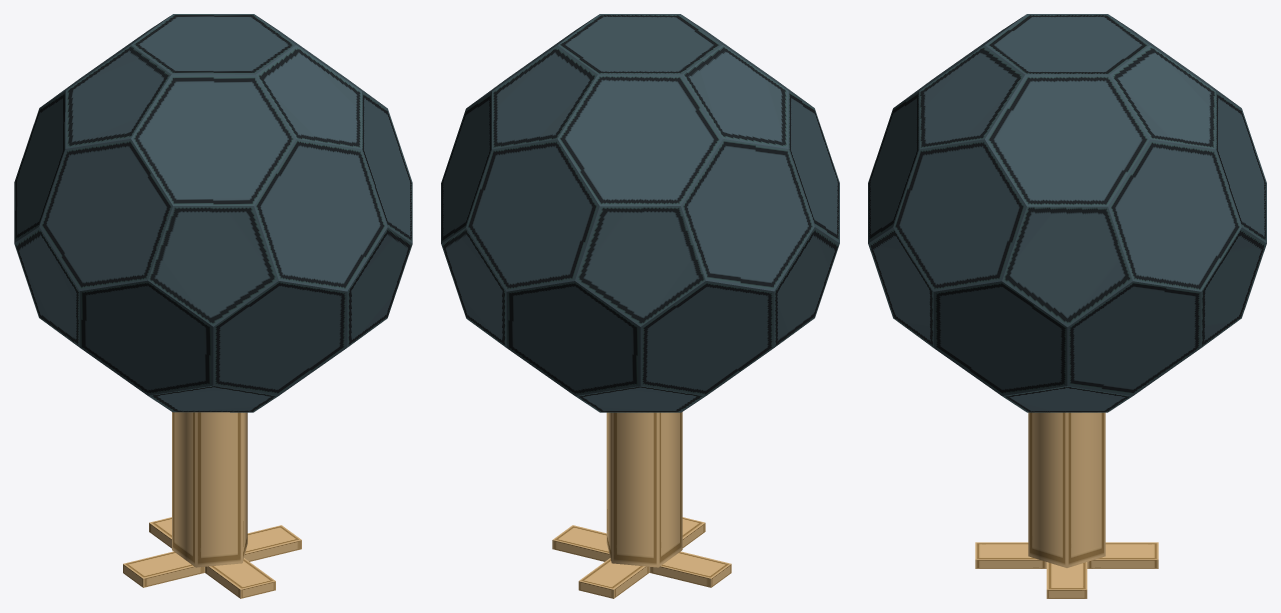
File: Tree014.FBX
3 views of the same model, side by side, from view 1: azimuth 30°, elevation 25°; view 2: azimuth 150°, elevation 25°; view 3: azimuth 270°, elevation 25° (orthographic).
Visible parts, largest first — view 1: tree014; view 2: tree014; view 3: tree014.
Boxes of the visible parts, left/top/right/bottom form: tree014: left=14, top=14, right=412, bottom=598; tree014: left=441, top=14, right=839, bottom=598; tree014: left=868, top=14, right=1266, bottom=598.
Size of the model in its own units: 198 by 280 by 196.
Materials: 1 (1 with a texture image).
